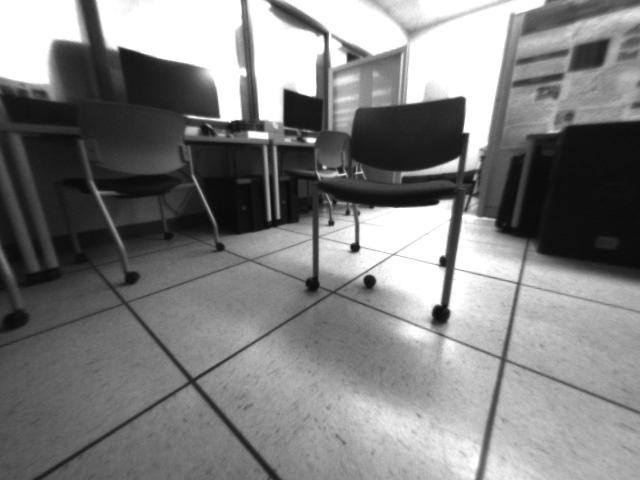dogtoy: (356, 269, 386, 292)
